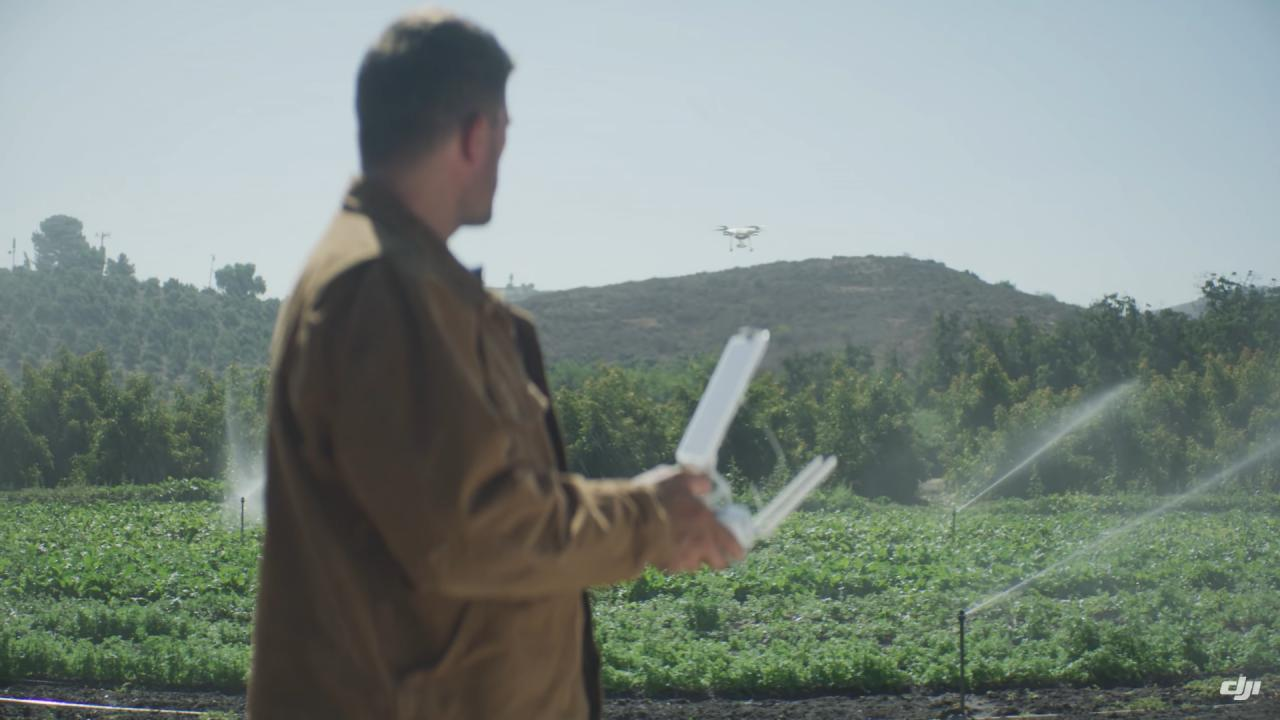Drone: (703, 216, 777, 261)
